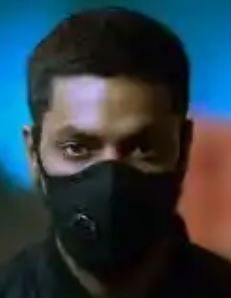with_facemask: (50, 170, 173, 264)
